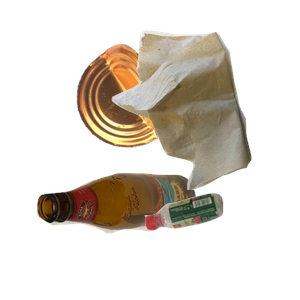glass: (34, 170, 223, 300)
metal: (74, 41, 229, 181)
plastic: (142, 191, 300, 300)
trash: (109, 28, 300, 208)
